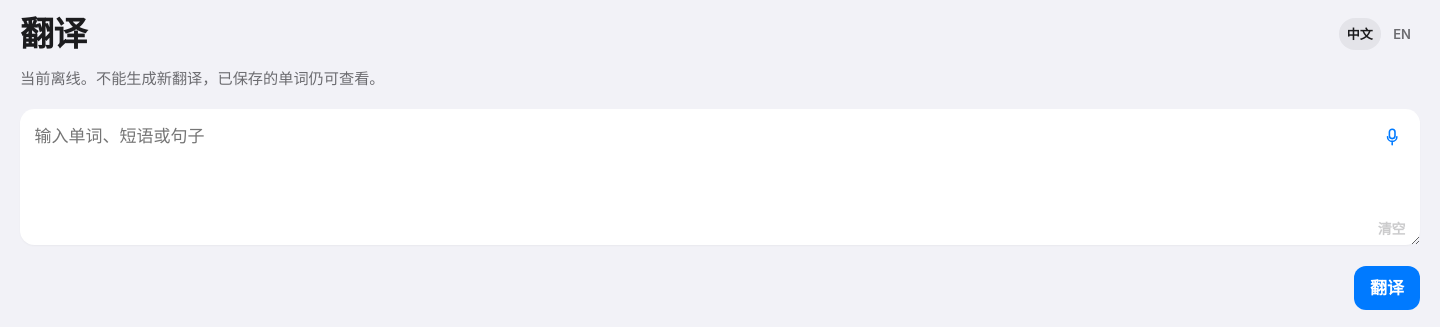
Test: offline translation › shows an offline state and does not request a new translation
Expected: the message shows "当前离线", [20,69,384,88]
Type "Hello, world" into the text box named "翻译内容" at coordinates (720, 177), box [20,109,1420,245]
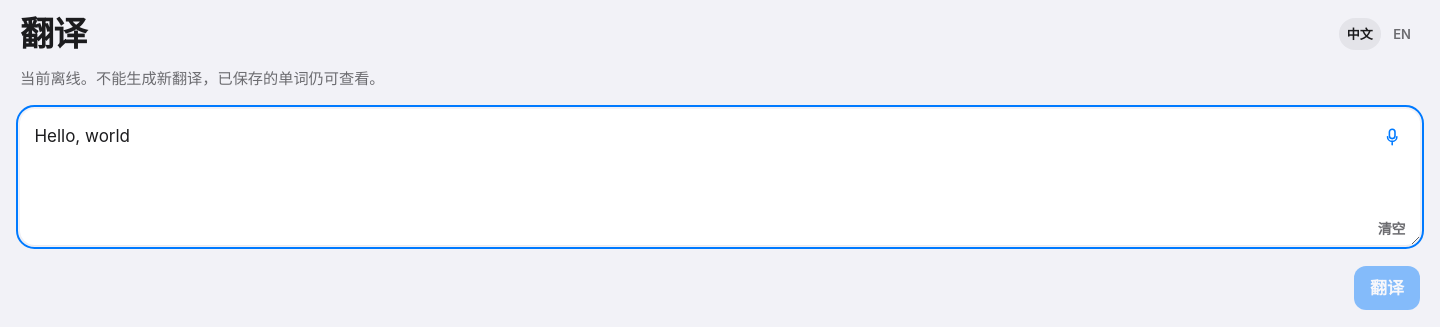
Result: the button "翻译" is disabled at [1354,266,1420,310]
